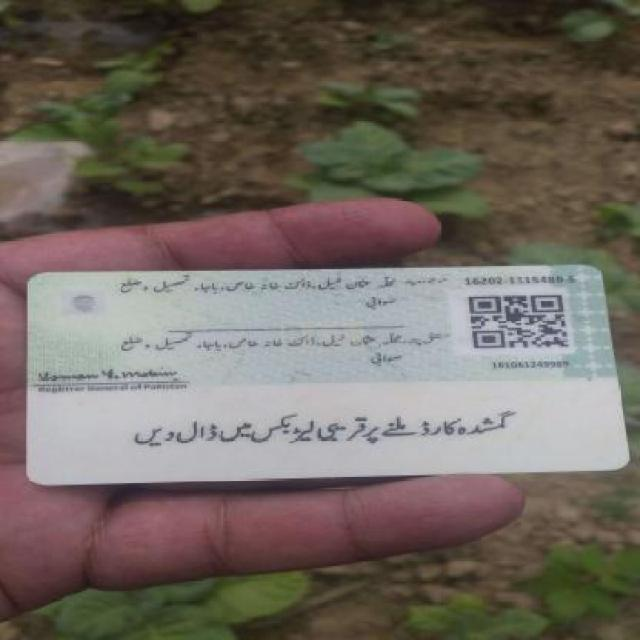Back: (20, 265, 631, 483)
